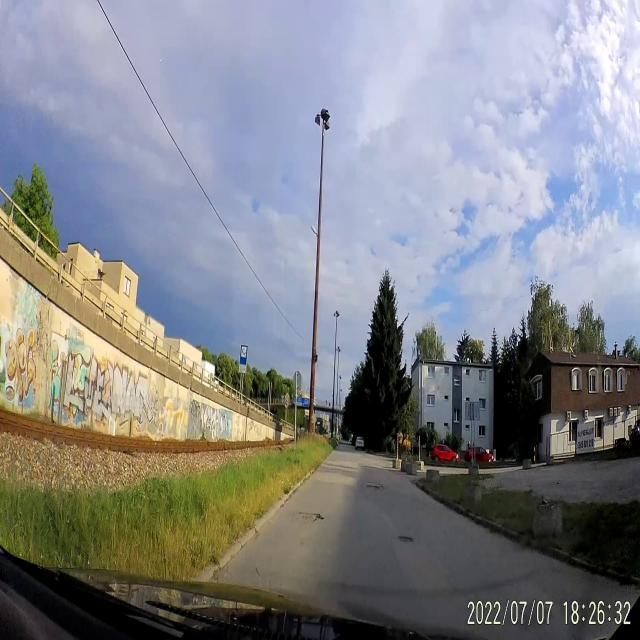Pothole: (286, 506, 324, 528), (396, 528, 418, 546), (364, 478, 386, 492)
